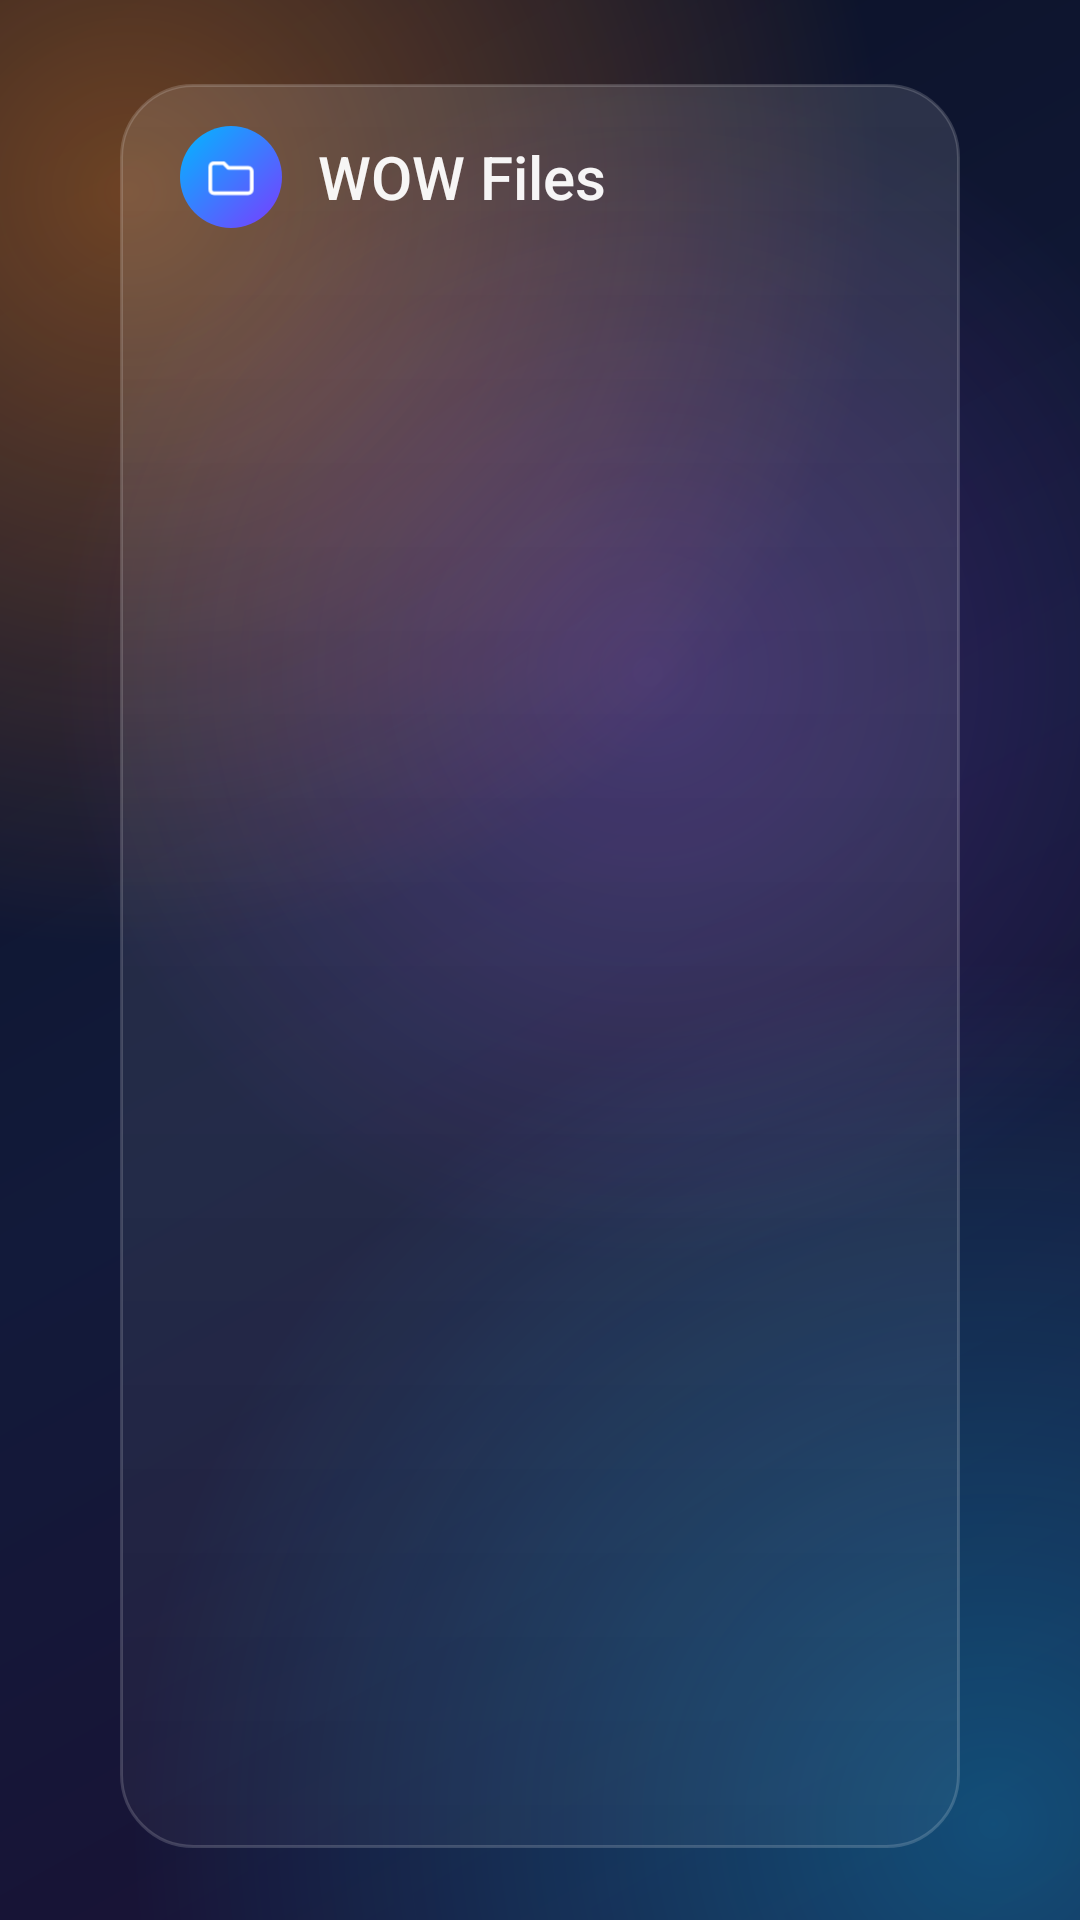

Screen size 1080×1920. Icon name, then its center in pixels as [x,y]:
files app: [231,177]
